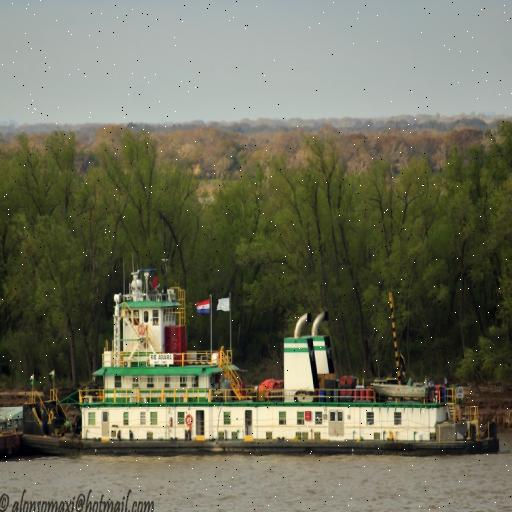tugboat: (20, 265, 505, 465)
